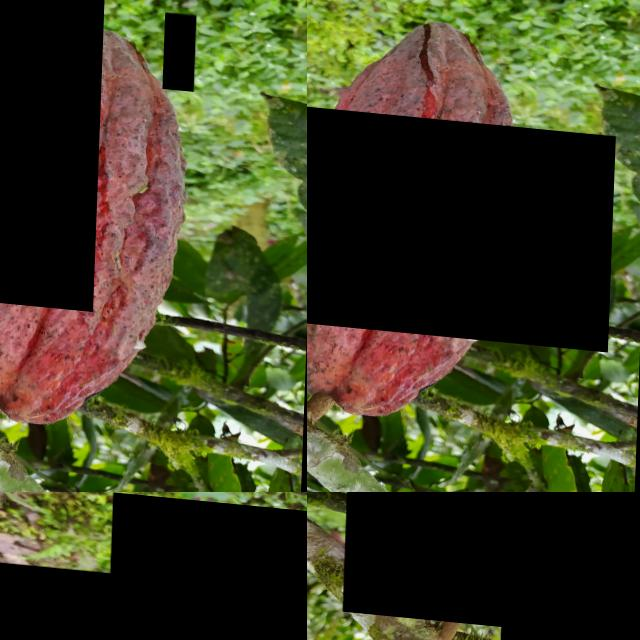Monilia: (0, 0, 106, 302), (100, 492, 307, 640)
Sana: (307, 96, 617, 340), (346, 492, 536, 623), (502, 492, 640, 640), (0, 556, 113, 640), (164, 2, 197, 81)
